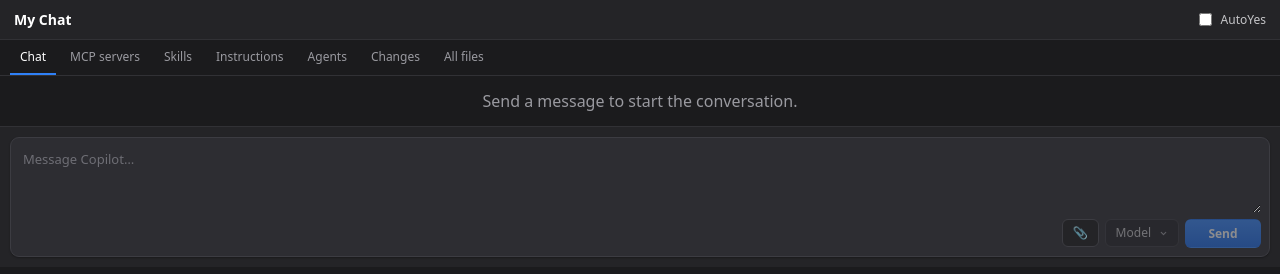
Test case: ChatViewHost › takes over the middle with the ReviewPanel when the Changes tab is clicked
Click the button "Changes": (395, 58) [361,40,430,75]
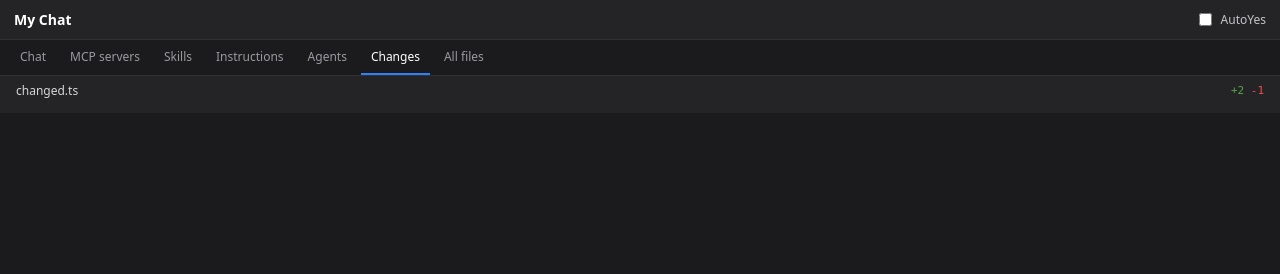
expect the field with placeholder "Message Copilot…" is not shown: met
expect the text "changed.ts" is shown: met, box [16,82,78,99]
expect the element with class "review-panel" is shown: met, box [0,76,1279,113]
